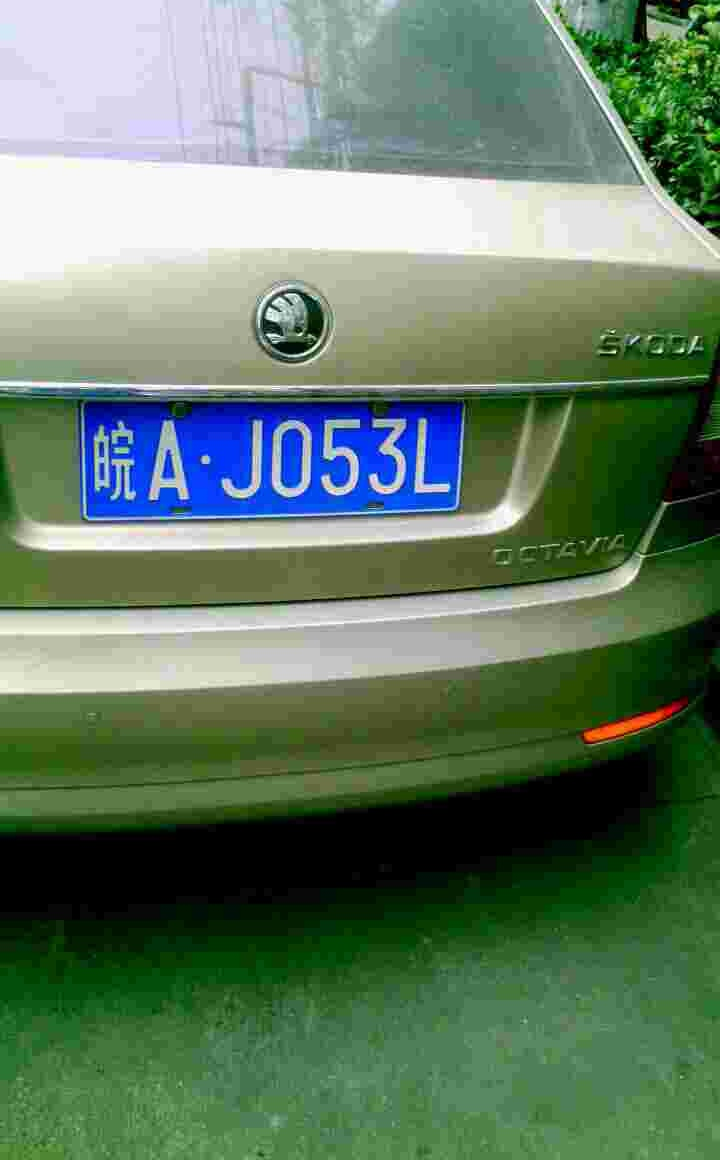license_plate: (69, 402, 458, 518)
